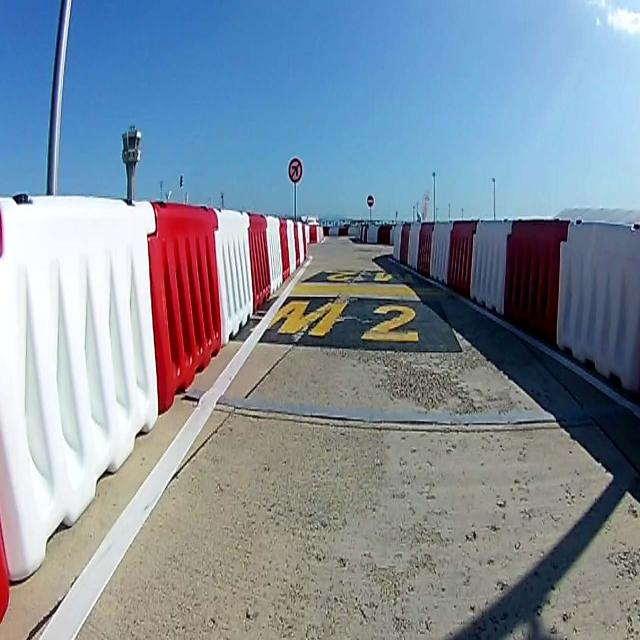girisyok: (367, 194, 374, 207)
soladonulmez: (288, 157, 302, 183)
